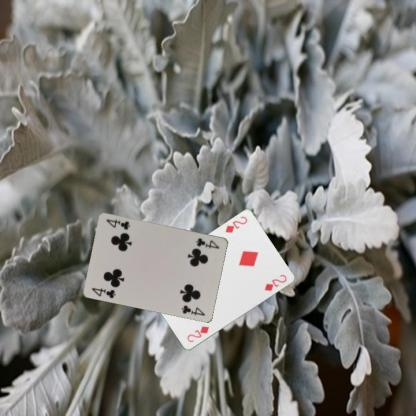2d: (184, 324, 210, 344), (223, 214, 249, 234)
4c: (194, 235, 221, 250), (89, 285, 117, 299)
